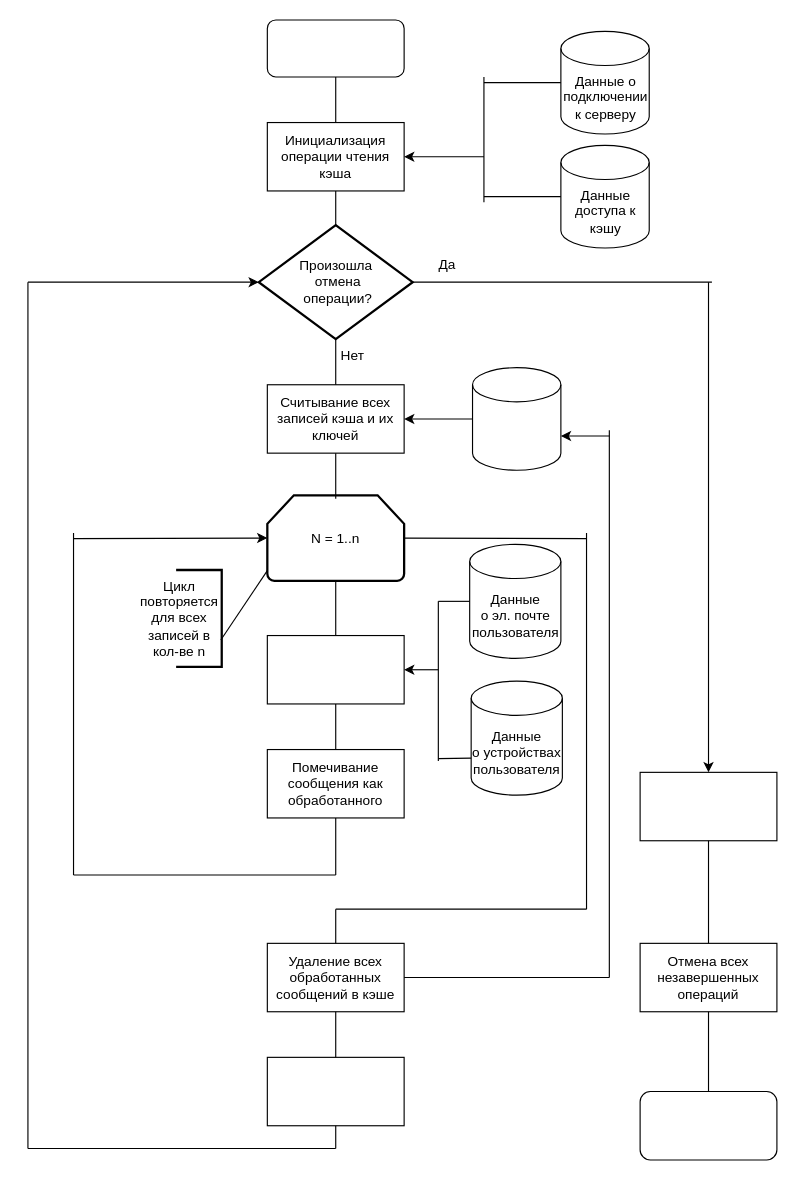
Some shapes in this 797 by 1180 pixel diagram are drawn without their labels. The centre of each missing label's shape, as x and y in pixels:
"Запуск сервиса уведомлений" belongs at (335,48).
"Облачный кэш Redis" belongs at (516,418).
"Обработка записи и отправка уведомления" belongs at (335,669).
"Ожидание задержки перед следующей итераций" belongs at (335,1091).
"Остановка сервиса рассылки уведомлений" belongs at (708,1125).
"Отключение от сервера с кэшем" belongs at (708,806).
